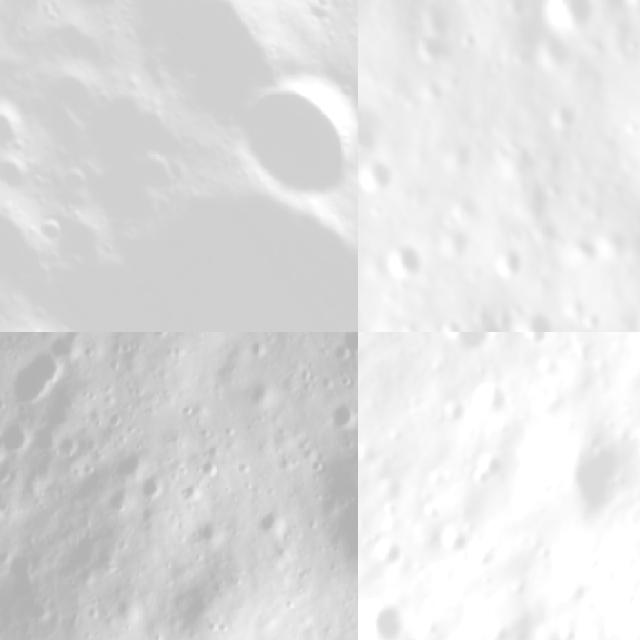crater: (44, 73, 358, 332), (196, 33, 358, 253), (98, 0, 299, 142), (0, 162, 71, 332), (295, 430, 358, 585), (7, 346, 73, 409), (0, 140, 47, 211), (396, 8, 454, 62), (0, 89, 40, 166), (429, 332, 500, 362), (67, 0, 128, 31), (107, 446, 150, 486), (250, 501, 285, 544), (364, 604, 405, 640), (360, 154, 397, 192), (242, 373, 278, 412), (383, 242, 420, 279), (31, 415, 67, 453), (0, 417, 33, 457), (329, 392, 358, 435), (544, 0, 585, 28), (192, 516, 222, 553), (434, 218, 466, 252), (536, 36, 570, 66), (547, 96, 576, 131), (511, 309, 551, 332), (103, 402, 134, 431), (569, 232, 594, 267), (57, 428, 86, 458), (242, 334, 272, 362), (492, 251, 530, 273), (198, 458, 227, 484), (433, 315, 473, 332), (329, 341, 353, 367), (557, 290, 580, 314), (339, 332, 358, 360), (580, 317, 602, 330)
